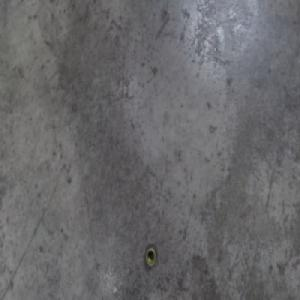Nut: (145, 244, 157, 270)
